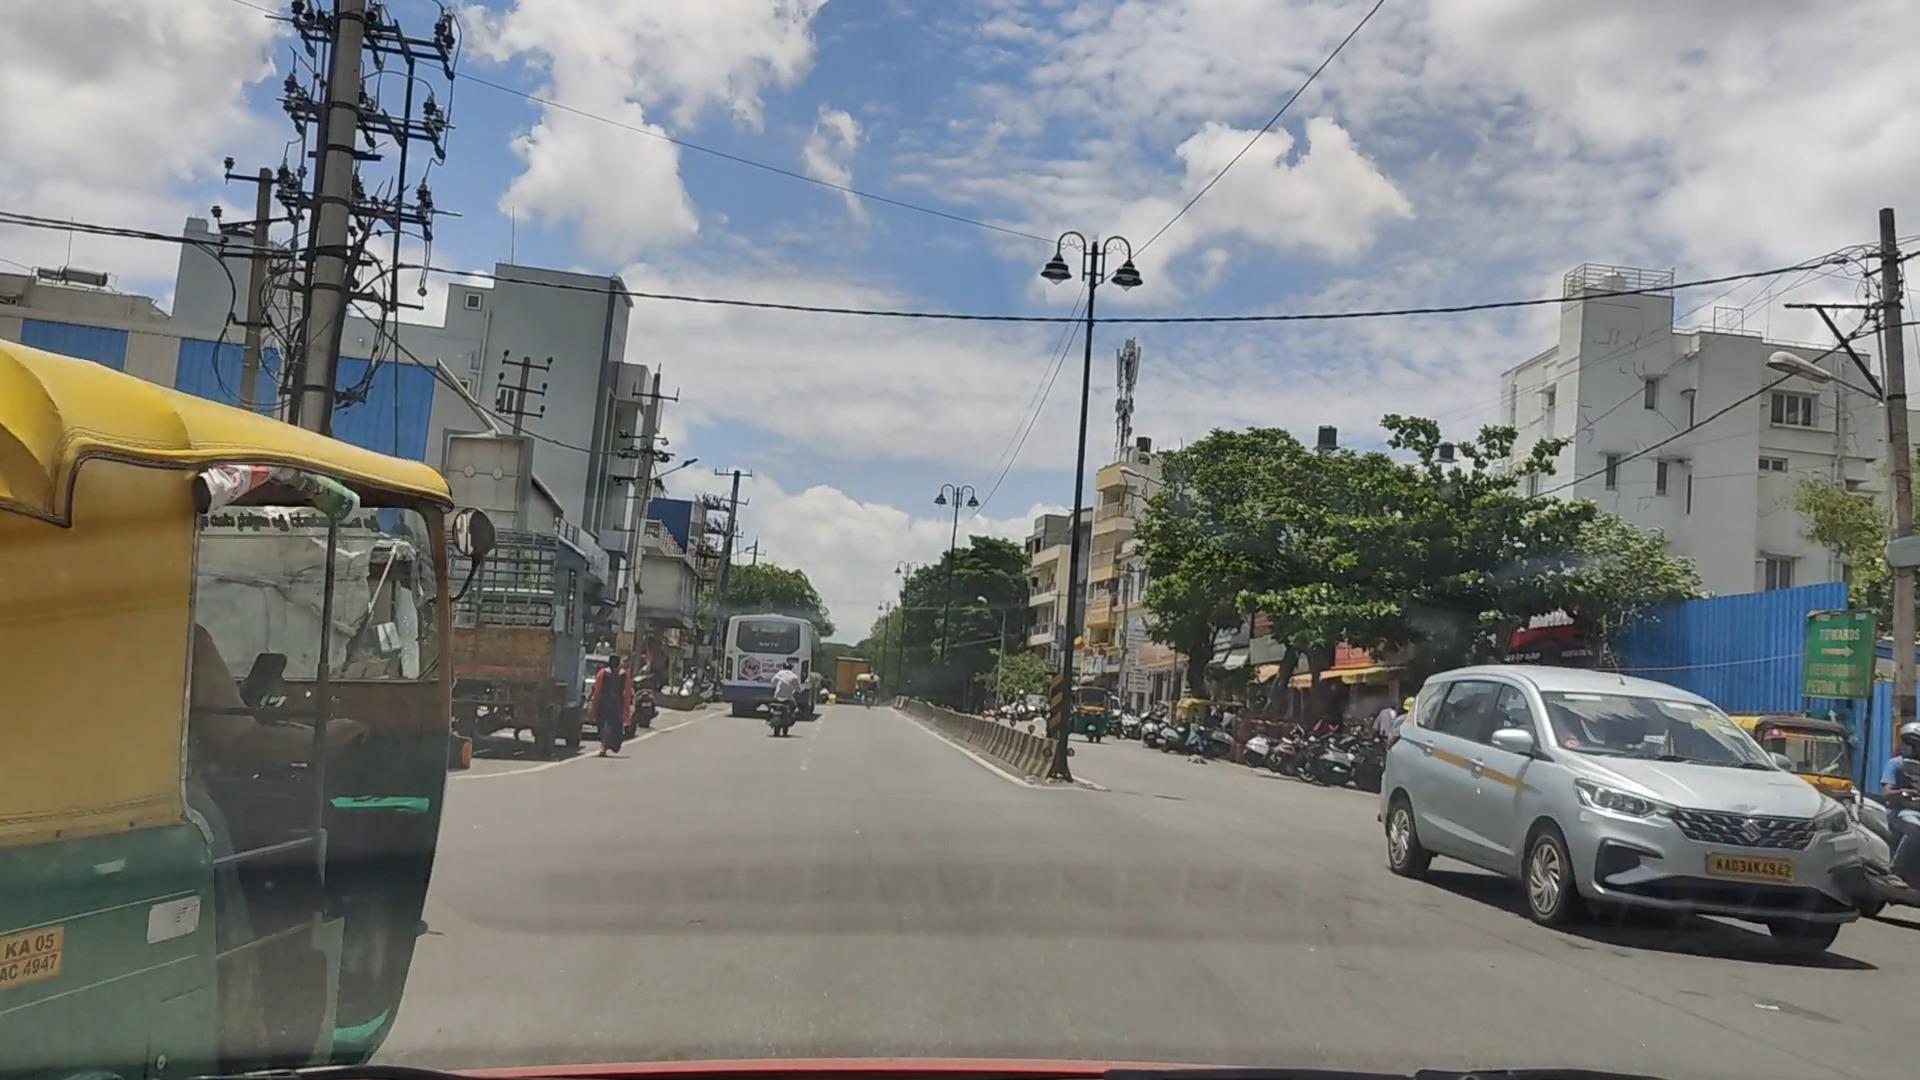LMV: (0, 348, 501, 1080)
